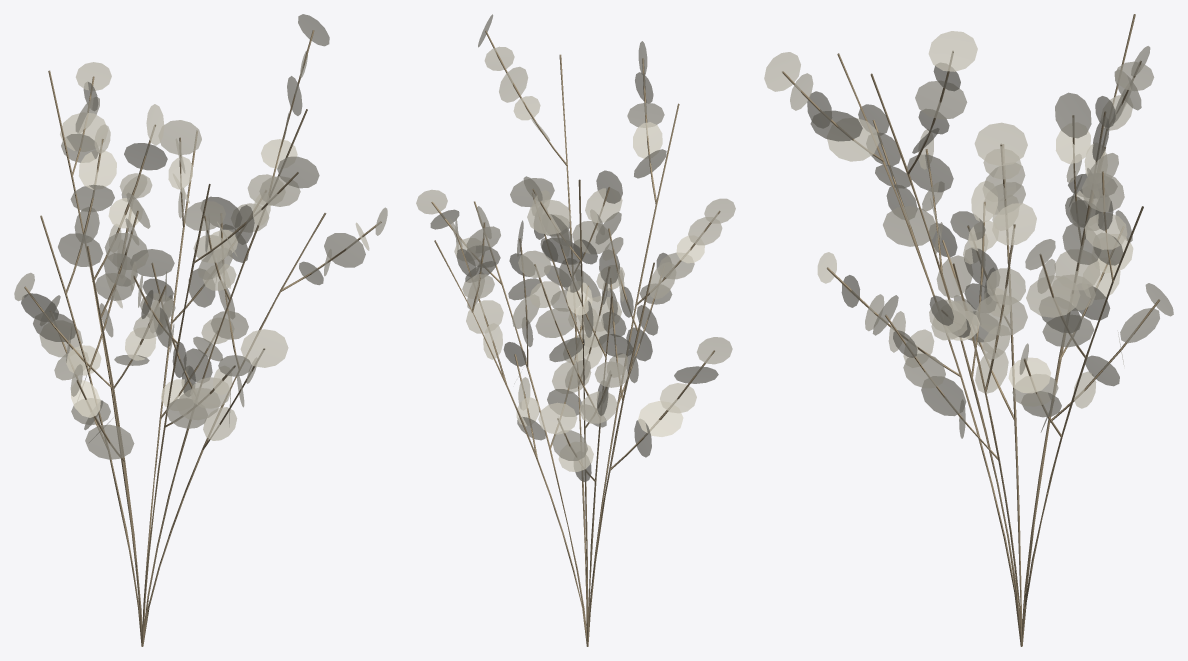
Rendered from lunaria-1.glb.
3 renders of one model, left to right at view 1: azimuth 30°, elevation 25°; view 2: azimuth 150°, elevation 25°; view 3: azimuth 270°, elevation 25°, orthographic. The views are drawn at different scales.
Visible parts, largest first — view 1: lunaria-leaves, lunaria-stems; view 2: lunaria-leaves, lunaria-stems; view 3: lunaria-leaves, lunaria-stems.
Boxes of the visible parts, x1=… form: lunaria-leaves: x1=14, y1=14, x2=387, y2=459; lunaria-stems: x1=24, y1=30, x2=381, y2=646; lunaria-leaves: x1=416, y1=14, x2=735, y2=481; lunaria-stems: x1=431, y1=30, x2=720, y2=646; lunaria-leaves: x1=764, y1=31, x2=1173, y2=438; lunaria-stems: x1=782, y1=14, x2=1159, y2=646.
Bounding box in the file's own units: 0.4202 × 0.7584 × 0.4086.
